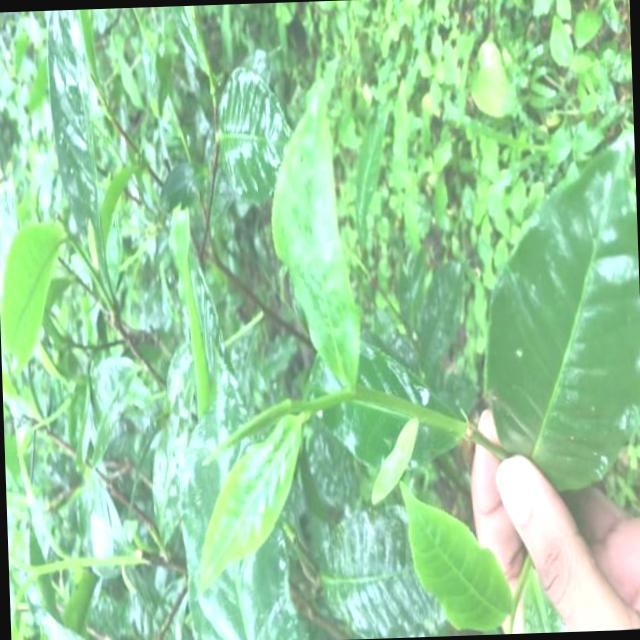Stem: (352, 382, 373, 406)
